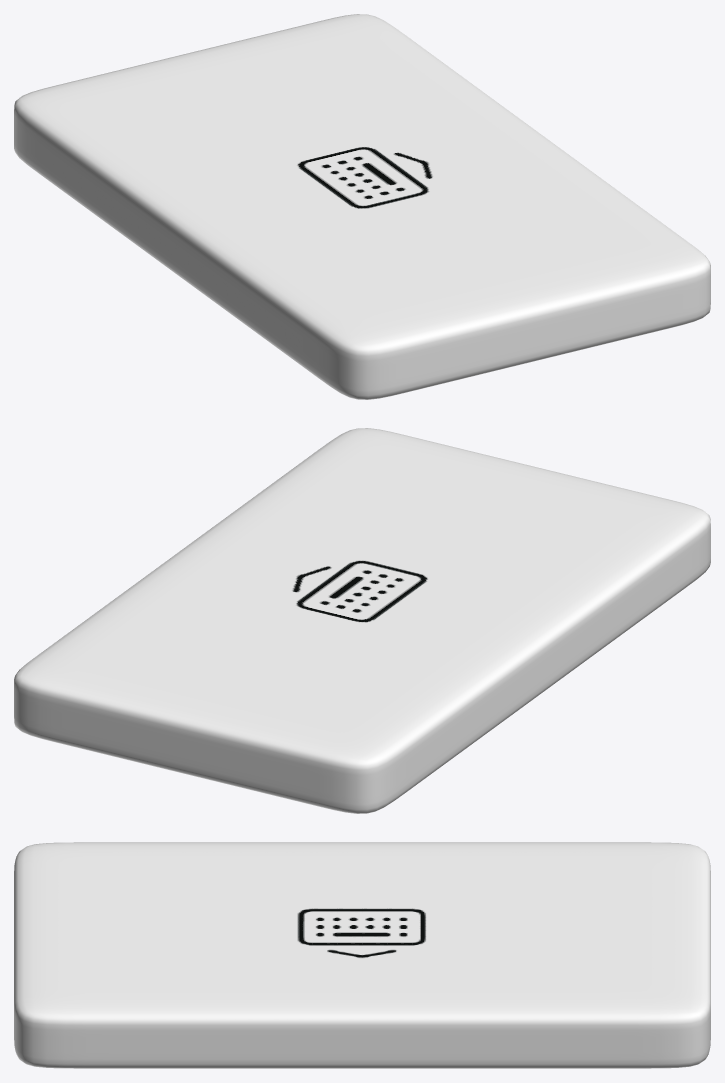
File: 2_keypad.fbx
The picture shows the model from 3 angles, top to bottom: view 1: azimuth 30°, elevation 25°; view 2: azimuth 150°, elevation 25°; view 3: azimuth 270°, elevation 25°; orthographic projection.
Visible parts, largest first — view 1: 立方体; view 2: 立方体; view 3: 立方体.
Boxes of the visible parts, left/top/right/bottom form: 立方体: left=14, top=14, right=710, bottom=399; 立方体: left=14, top=428, right=710, bottom=813; 立方体: left=14, top=842, right=710, bottom=1068.
Bounding box in the file's own units: 200 × 30 × 330.
1 material, 1 textured.
